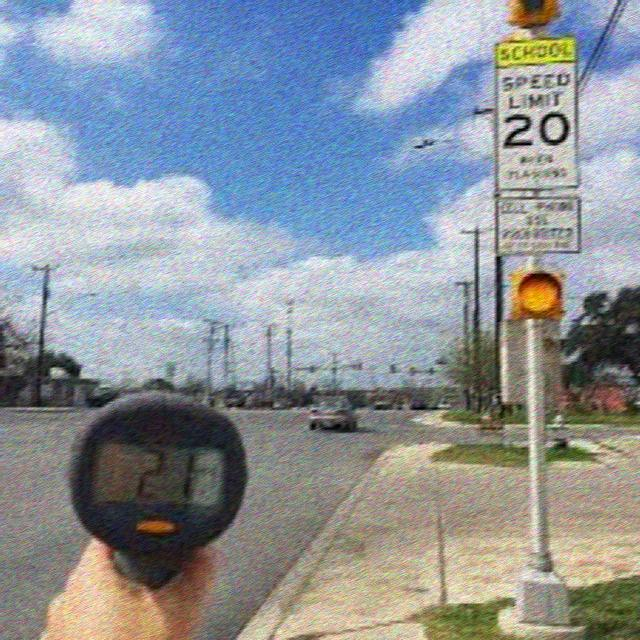speedLimit20: (494, 61, 578, 149)
